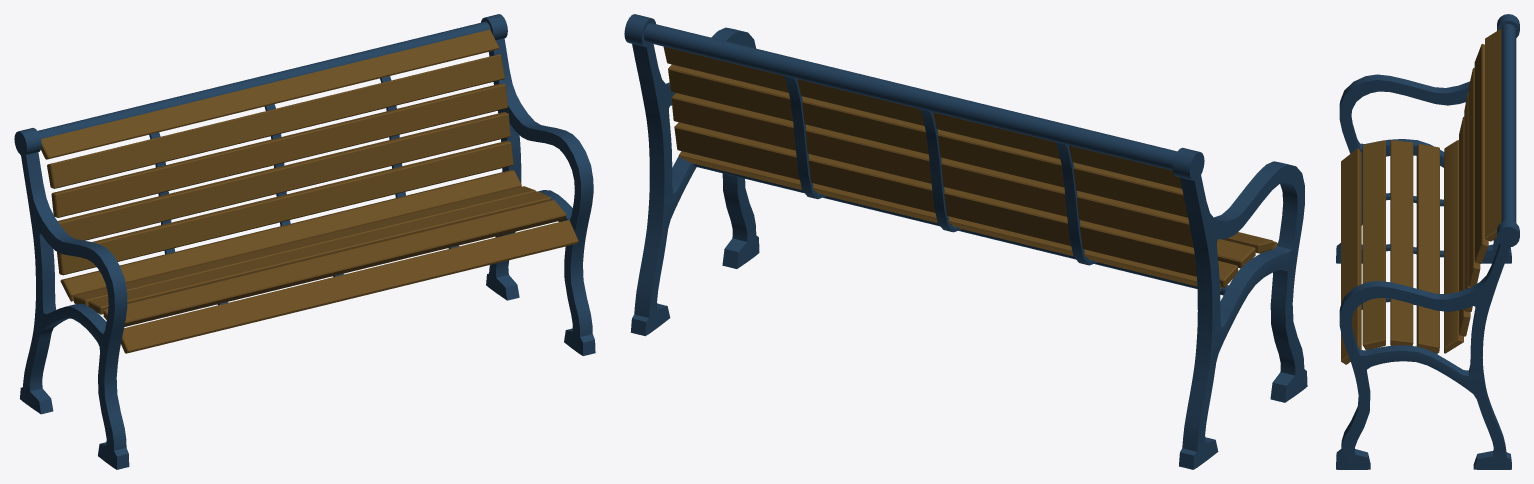
Rendered from Holzbank.fbx.
The picture shows the model from 3 angles, left to right: view 1: azimuth 30°, elevation 25°; view 2: azimuth 150°, elevation 25°; view 3: azimuth 270°, elevation 25°; orthographic projection. The views are drawn at different scales.
Parts seen in each view (by area): view 1: Holzbank.011, Holzbank.013, Holzbank, Holzbank.010, Holzbank.004, Holzbank.009, Holzbank.014, Holzbank.005, Holzbank.008, Holzbank.003, Holzbank.006, Holzbank.001 (+1 smaller); view 2: Holzbank.004, Holzbank.010, Holzbank.009, Holzbank.011, Holzbank.001, Holzbank.003, Holzbank.013, Holzbank.008, Holzbank.012, Holzbank.016, Holzbank.017, Holzbank.002 (+1 smaller); view 3: Holzbank.003, Holzbank.006, Holzbank.005, Holzbank.007, Holzbank.001, Holzbank.004, Holzbank.014, Holzbank, Holzbank.008, Holzbank.013, Holzbank.011, Holzbank.009 (+1 smaller).
Boxes of the visible parts, left/top/right/bottom form: Holzbank.011: left=51, top=83, right=507, bottom=217; Holzbank.013: left=47, top=54, right=504, bottom=188; Holzbank: left=121, top=220, right=578, bottom=353; Holzbank.010: left=57, top=112, right=510, bottom=240; Holzbank.004: left=20, top=152, right=129, bottom=469; Holzbank.009: left=57, top=140, right=513, bottom=275; Holzbank.014: left=41, top=29, right=499, bottom=159; Holzbank.005: left=103, top=200, right=566, bottom=326; Holzbank.008: left=60, top=170, right=521, bottom=301; Holzbank.003: left=486, top=38, right=595, bottom=355; Holzbank.006: left=88, top=191, right=551, bottom=314; Holzbank.001: left=14, top=14, right=507, bottom=155; Holzbank.004: left=1179, top=161, right=1307, bottom=469; Holzbank.010: left=671, top=93, right=1193, bottom=247; Holzbank.009: left=674, top=122, right=1196, bottom=276; Holzbank.011: left=668, top=64, right=1187, bottom=217; Holzbank.001: left=624, top=14, right=1204, bottom=180; Holzbank.003: left=630, top=27, right=759, bottom=336; Holzbank.013: left=663, top=46, right=1182, bottom=188; Holzbank.008: left=678, top=151, right=1220, bottom=291; Holzbank.012: left=919, top=109, right=961, bottom=232; Holzbank.016: left=784, top=76, right=825, bottom=199; Holzbank.017: left=1055, top=142, right=1097, bottom=265; Holzbank.002: left=694, top=164, right=1228, bottom=295; Holzbank.003: left=1336, top=243, right=1511, bottom=469; Holzbank.006: left=1390, top=140, right=1413, bottom=345; Holzbank.005: left=1362, top=140, right=1385, bottom=349; Holzbank.007: left=1416, top=143, right=1439, bottom=352; Holzbank.001: left=1497, top=14, right=1519, bottom=247; Holzbank.004: left=1336, top=74, right=1511, bottom=263; Holzbank.014: left=1485, top=28, right=1501, bottom=241; Holzbank: left=1341, top=148, right=1361, bottom=364; Holzbank.008: left=1444, top=140, right=1463, bottom=353; Holzbank.013: left=1474, top=44, right=1488, bottom=263; Holzbank.011: left=1468, top=67, right=1480, bottom=286; Holzbank.009: left=1459, top=116, right=1470, bottom=336.
Size of the model in its own units: 160 by 85.26 by 58.35.
